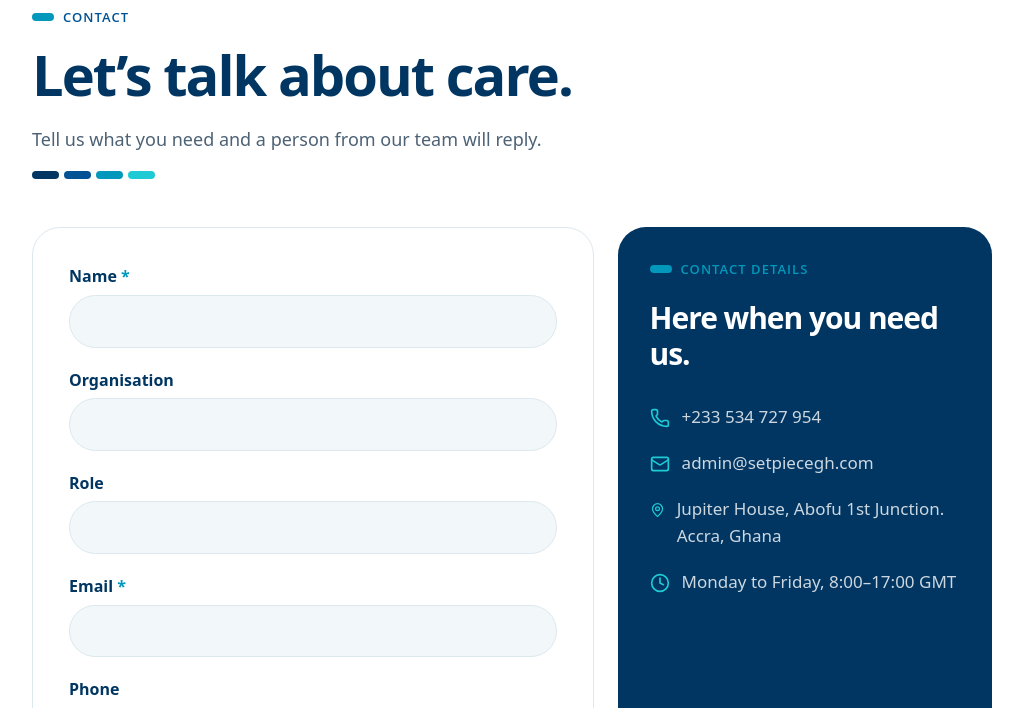
Contact form › shows a fallback when sending fails
Type "Ama Mensah" into the field labelled "Name *" at [313, 321], box x1=69 y1=295 x2=557 y2=348
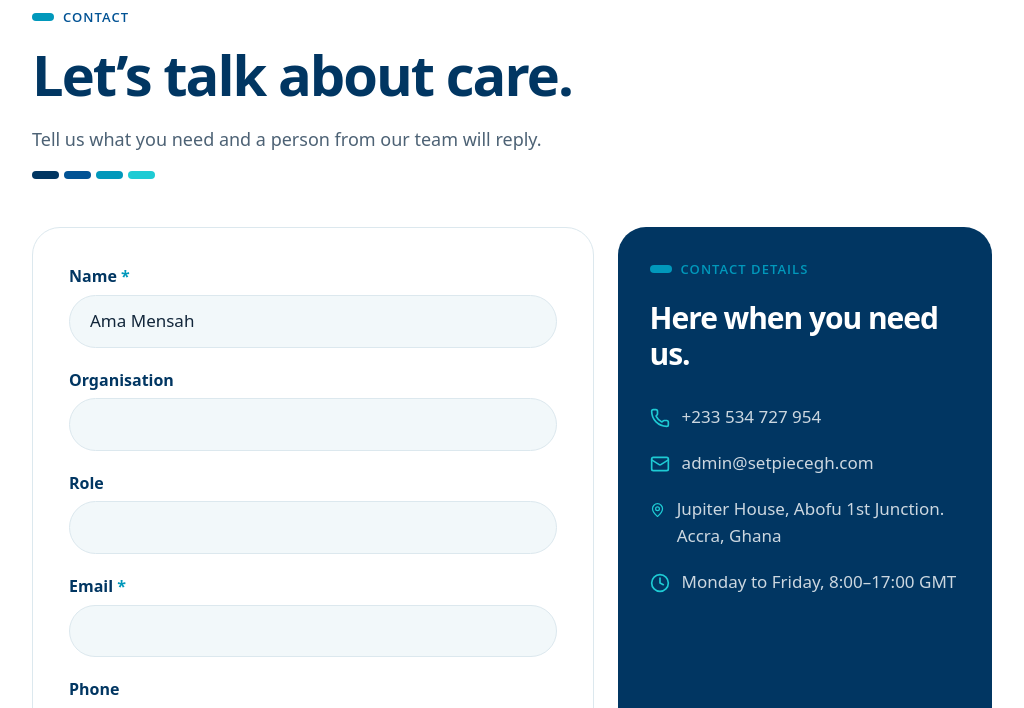
Type "ama@example.com" into the field labelled "Email *" at [313, 631], box x1=69 y1=605 x2=557 y2=657
(page scrolled)
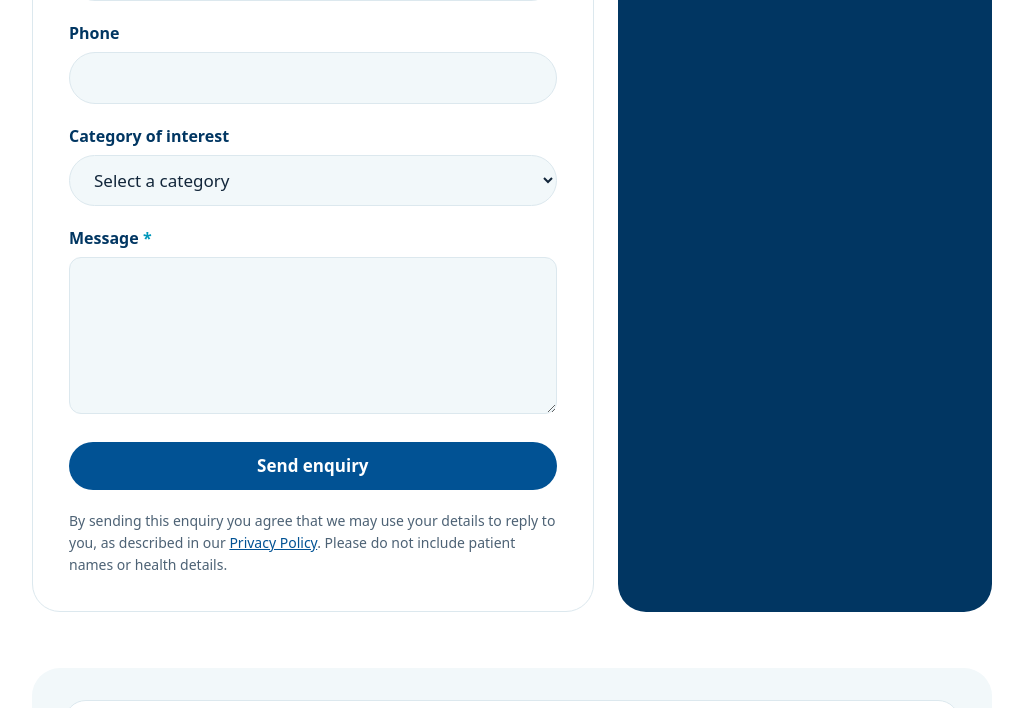
Type "Please quote 20 pouches." into the text box labelled "Message *" at [313, 336], box x1=69 y1=257 x2=557 y2=414
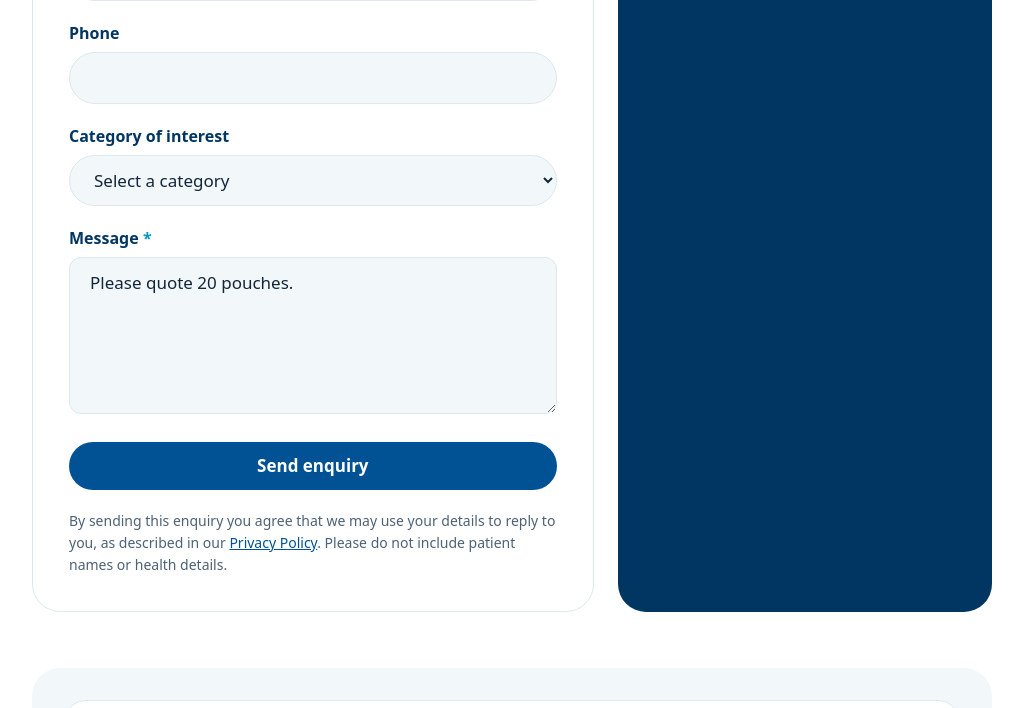
Click the button "Send enquiry" at [313, 466], box x1=69 y1=442 x2=557 y2=490
(page scrolled)
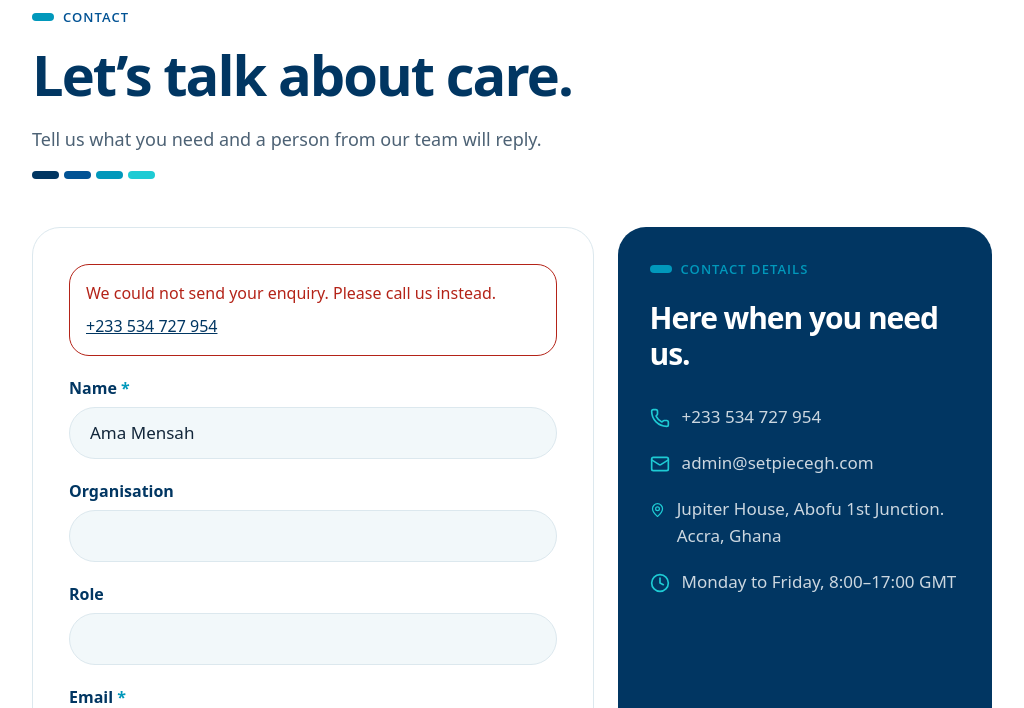
Result: the message shows "could not send your enquiry" at x1=86 y1=282 x2=496 y2=304
Result: the 1st link "+233 534 727 954" is shown at x1=86 y1=315 x2=218 y2=337
